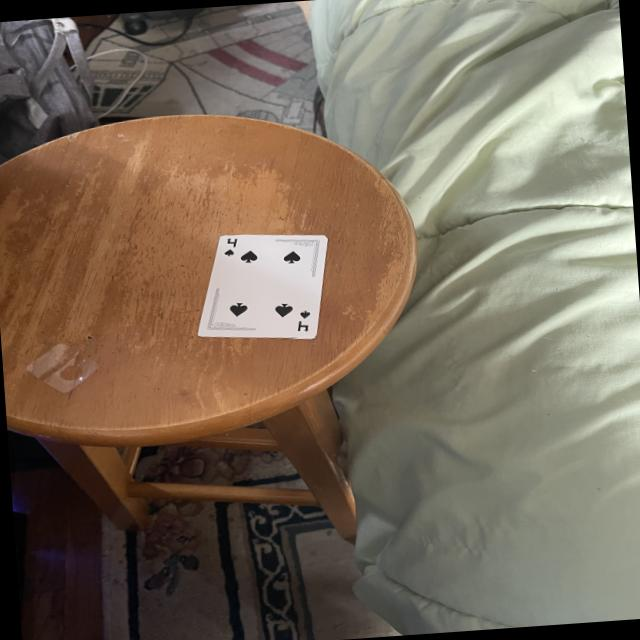4 of spades: (199, 236, 325, 337)
